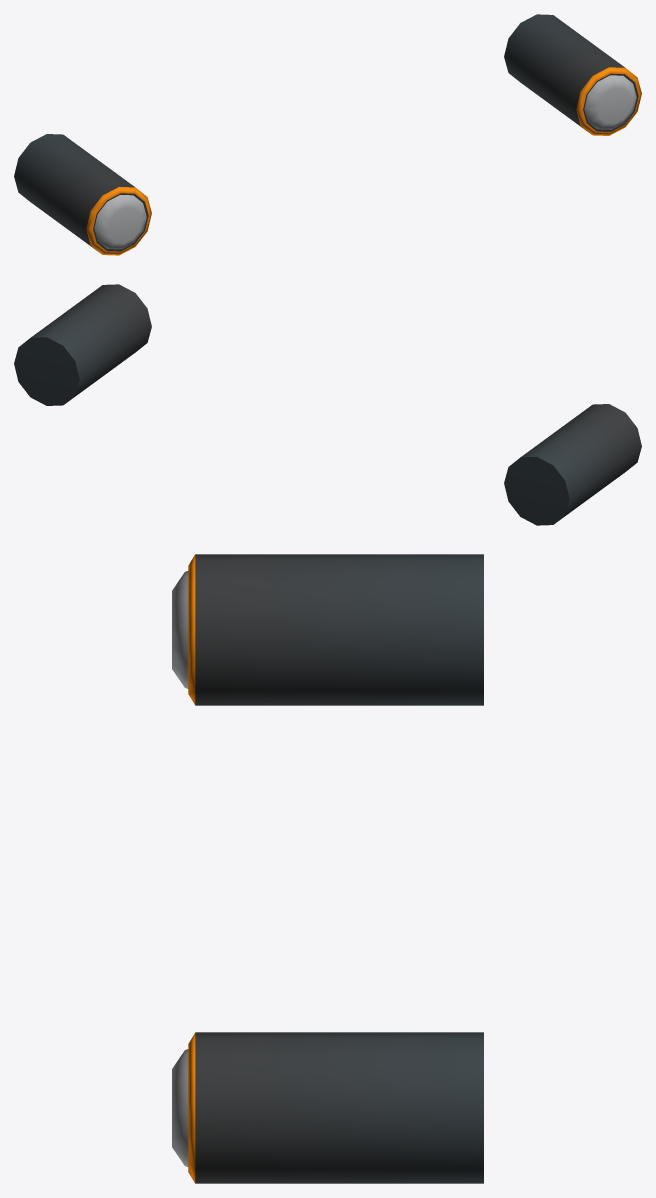
Rendered from Car_06_Headlight_Simple.fbx.
The picture shows the model from 3 angles, top to bottom: view 1: azimuth 30°, elevation 25°; view 2: azimuth 150°, elevation 25°; view 3: azimuth 270°, elevation 25°; orthographic projection. The views are drawn at different scales.
Visible parts, largest first — view 1: Car_06_Headlight_Simple; view 2: Car_06_Headlight_Simple; view 3: Car_06_Headlight_Simple.
Part boxes in pixels (x1,y1,x2,y2): Car_06_Headlight_Simple: [14, 14, 641, 255]; Car_06_Headlight_Simple: [14, 284, 641, 525]; Car_06_Headlight_Simple: [172, 554, 483, 1183].
Bounding box in the file's own units: 250 × 60.74 × 29.53.
